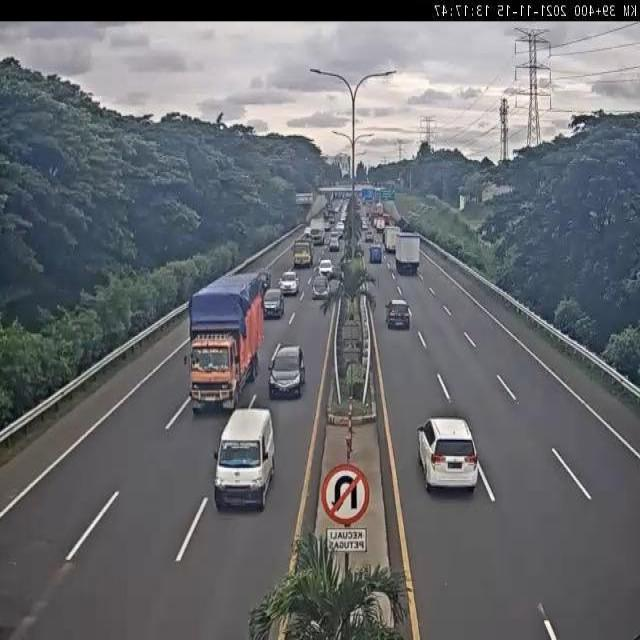Car: (415, 415, 479, 497), (268, 344, 308, 403), (384, 300, 411, 331), (263, 287, 287, 319), (310, 278, 332, 303), (279, 273, 299, 294), (317, 259, 335, 279)
Truck: (182, 272, 266, 418), (393, 232, 420, 275), (292, 238, 316, 269)
Van: (214, 407, 277, 514)
